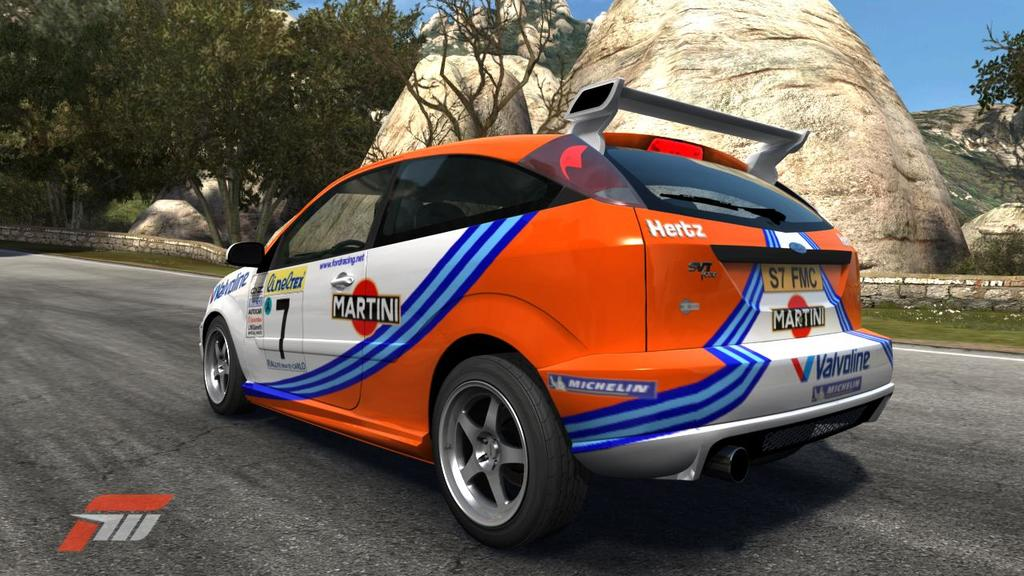person: (125, 183, 214, 243)
